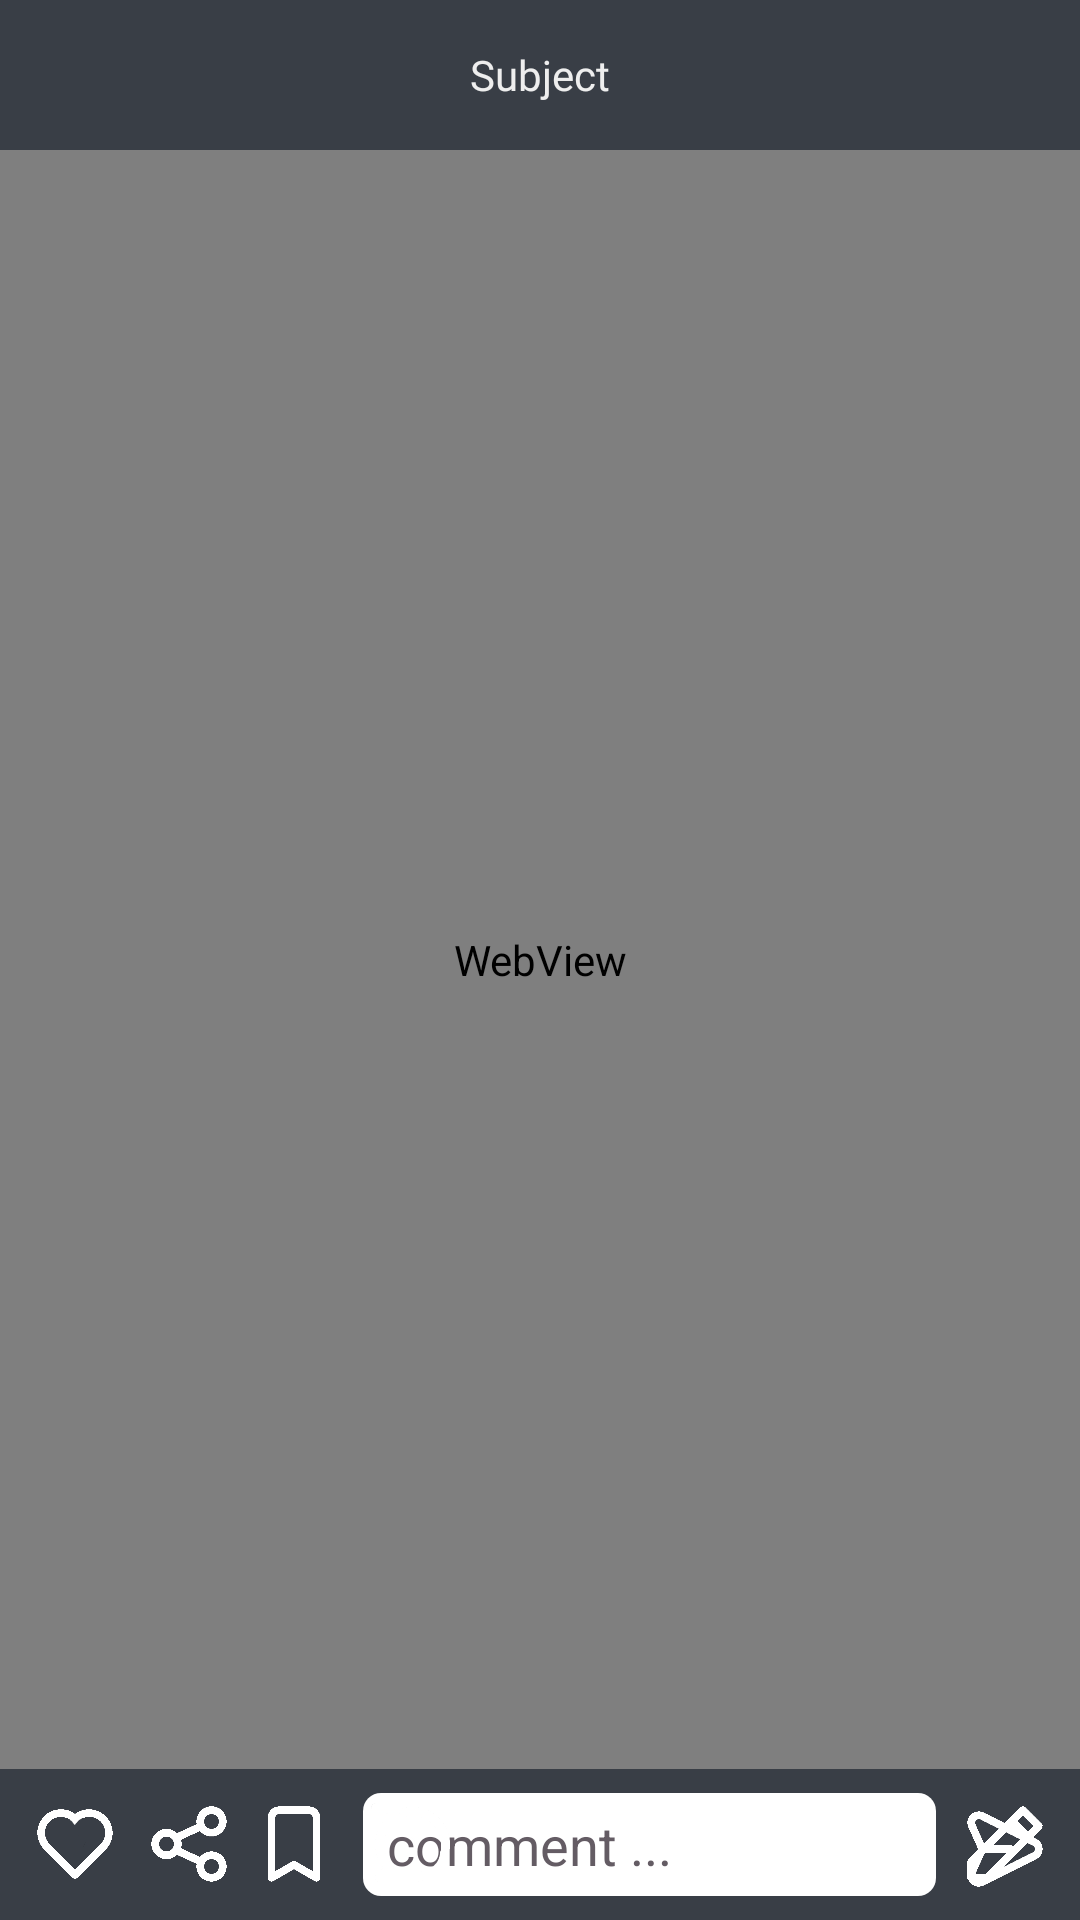

Locate icon controls on the screen. Image size 1080*1920, boxes as Rect(x1, y1, x2, y2).
like: Rect(37, 1809, 113, 1879)
share: Rect(151, 1806, 227, 1882)
